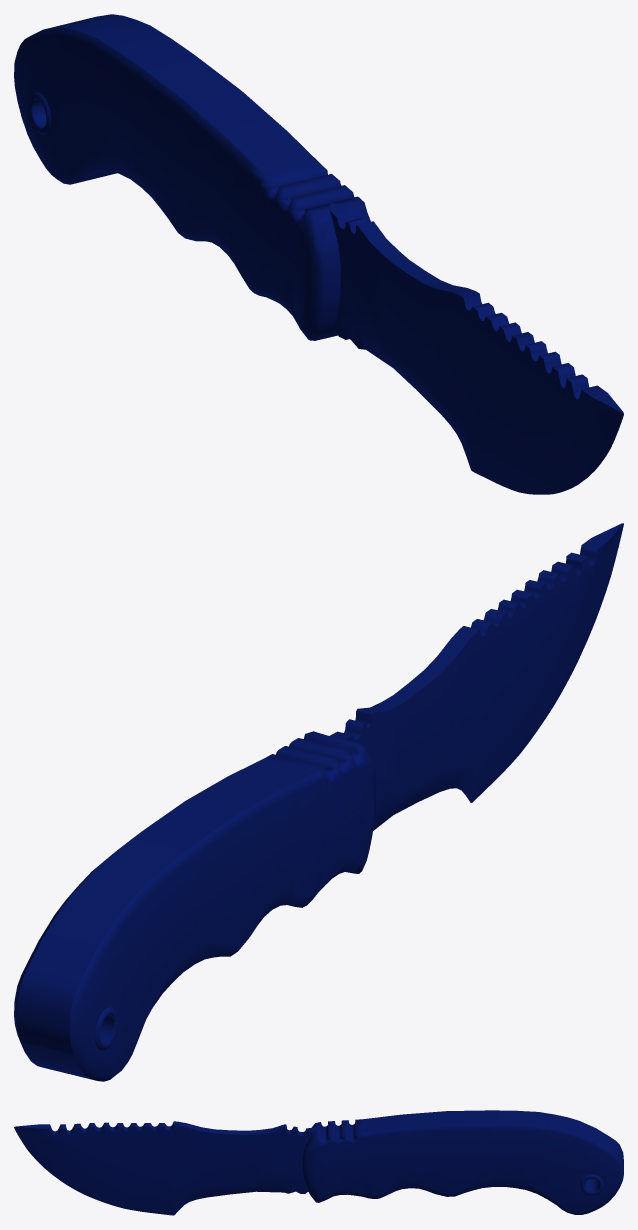
File: TrackerKnife.fbx
The picture shows the model from 3 angles, top to bottom: view 1: azimuth 30°, elevation 25°; view 2: azimuth 150°, elevation 25°; view 3: azimuth 270°, elevation 25°; orthographic projection. The views are drawn at different scales.
Parts seen in each view (by area): view 1: LowPoly; view 2: LowPoly; view 3: LowPoly.
Part boxes in pixels (box(x1,y1,x2,y2)): LowPoly: box(14, 14, 623, 494); LowPoly: box(14, 523, 623, 1081); LowPoly: box(14, 1110, 623, 1215).
Size of the model in its own units: 53.54 by 134 by 754.
